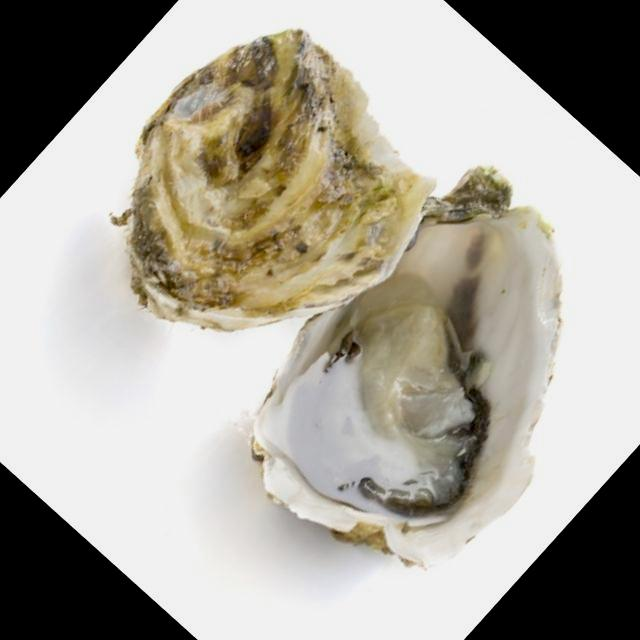Oyster-Closed: (124, 29, 437, 335)
Oyster-Open: (250, 180, 563, 569)
